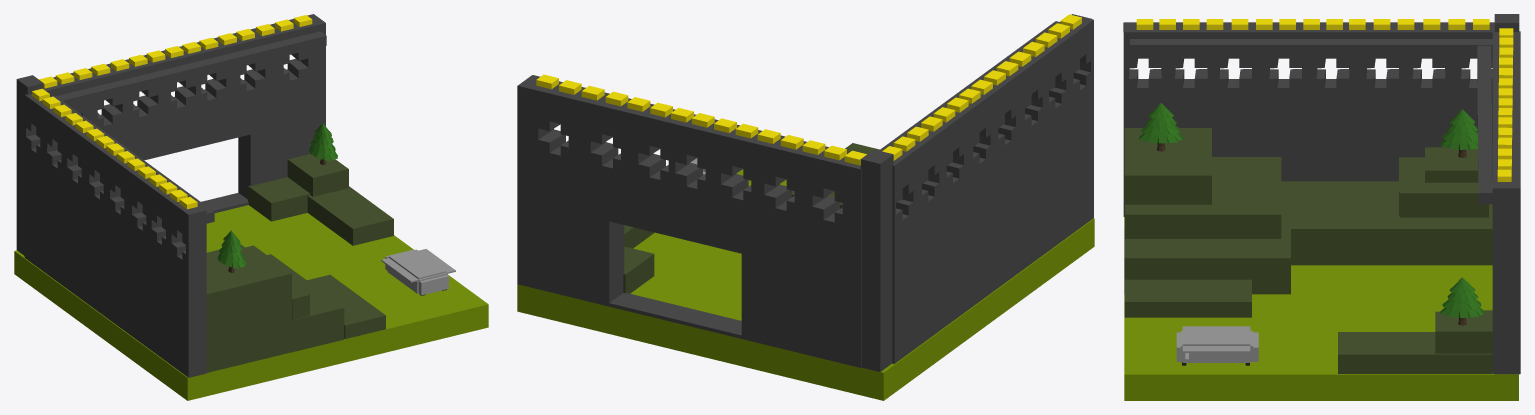
File: l'manburgwall.gltf
3 renders of one model, left to right at view 1: azimuth 30°, elevation 25°; view 2: azimuth 150°, elevation 25°; view 3: azimuth 270°, elevation 25°, orthographic. The views are drawn at different scales.
Parts seen in each view (by area): view 1: Wall1, Cube.053, Cube.059, Cube.020, Cube.023, Cube.017, Cube.043, Cube.051, Cube.045, Cube.046, Tree2, Tree2.002 (+1 smaller); view 2: Cube.059, Wall1, Cube.053, Cube.045, Cube.016; view 3: Wall1, Cube.053, Cube.023, Cube.022, Cube.016, Cube.020, Cube.043, Cube.024, Cube.059, Cube.051, Cube.017, Cube.046 (+4 smaller).
Boxes of the visible parts, x1,y1,x2,y2 form: Wall1: (16,75,206,377); Cube.053: (14,205,488,400); Cube.059: (43,14,325,212); Cube.020: (206,245,291,372); Cube.023: (267,254,385,352); Cube.017: (56,31,326,107); Cube.043: (307,186,393,245); Cube.051: (381,249,455,295); Cube.045: (248,177,310,221); Cube.046: (287,153,348,196); Tree2: (217,230,246,272); Tree2.002: (309,123,337,165); Cube.059: (517,75,861,367); Wall1: (517,14,1093,371); Cube.053: (517,169,1094,400); Cube.045: (623,246,654,293); Cube.016: (879,21,1060,151); Wall1: (1123,14,1520,374); Cube.053: (1124,217,1518,400); Cube.023: (1124,181,1492,317); Cube.022: (1125,157,1281,238); Cube.016: (1130,39,1492,56); Cube.020: (1124,128,1211,228); Cube.043: (1338,332,1492,373); Cube.024: (1399,157,1488,217); Cube.059: (1492,31,1520,373); Cube.051: (1176,326,1258,362); Cube.017: (1477,45,1492,204); Cube.046: (1435,311,1492,353).
Size of the model in its own units: 248 by 153 by 249.
